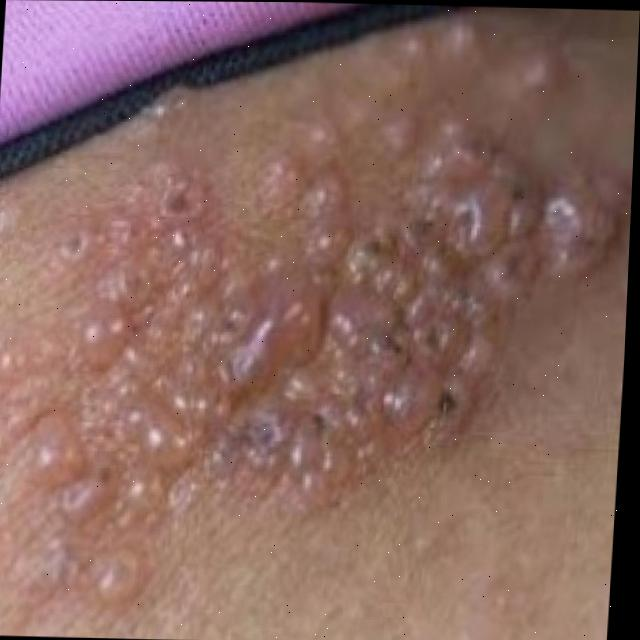Shingles: (39, 83, 615, 581)
